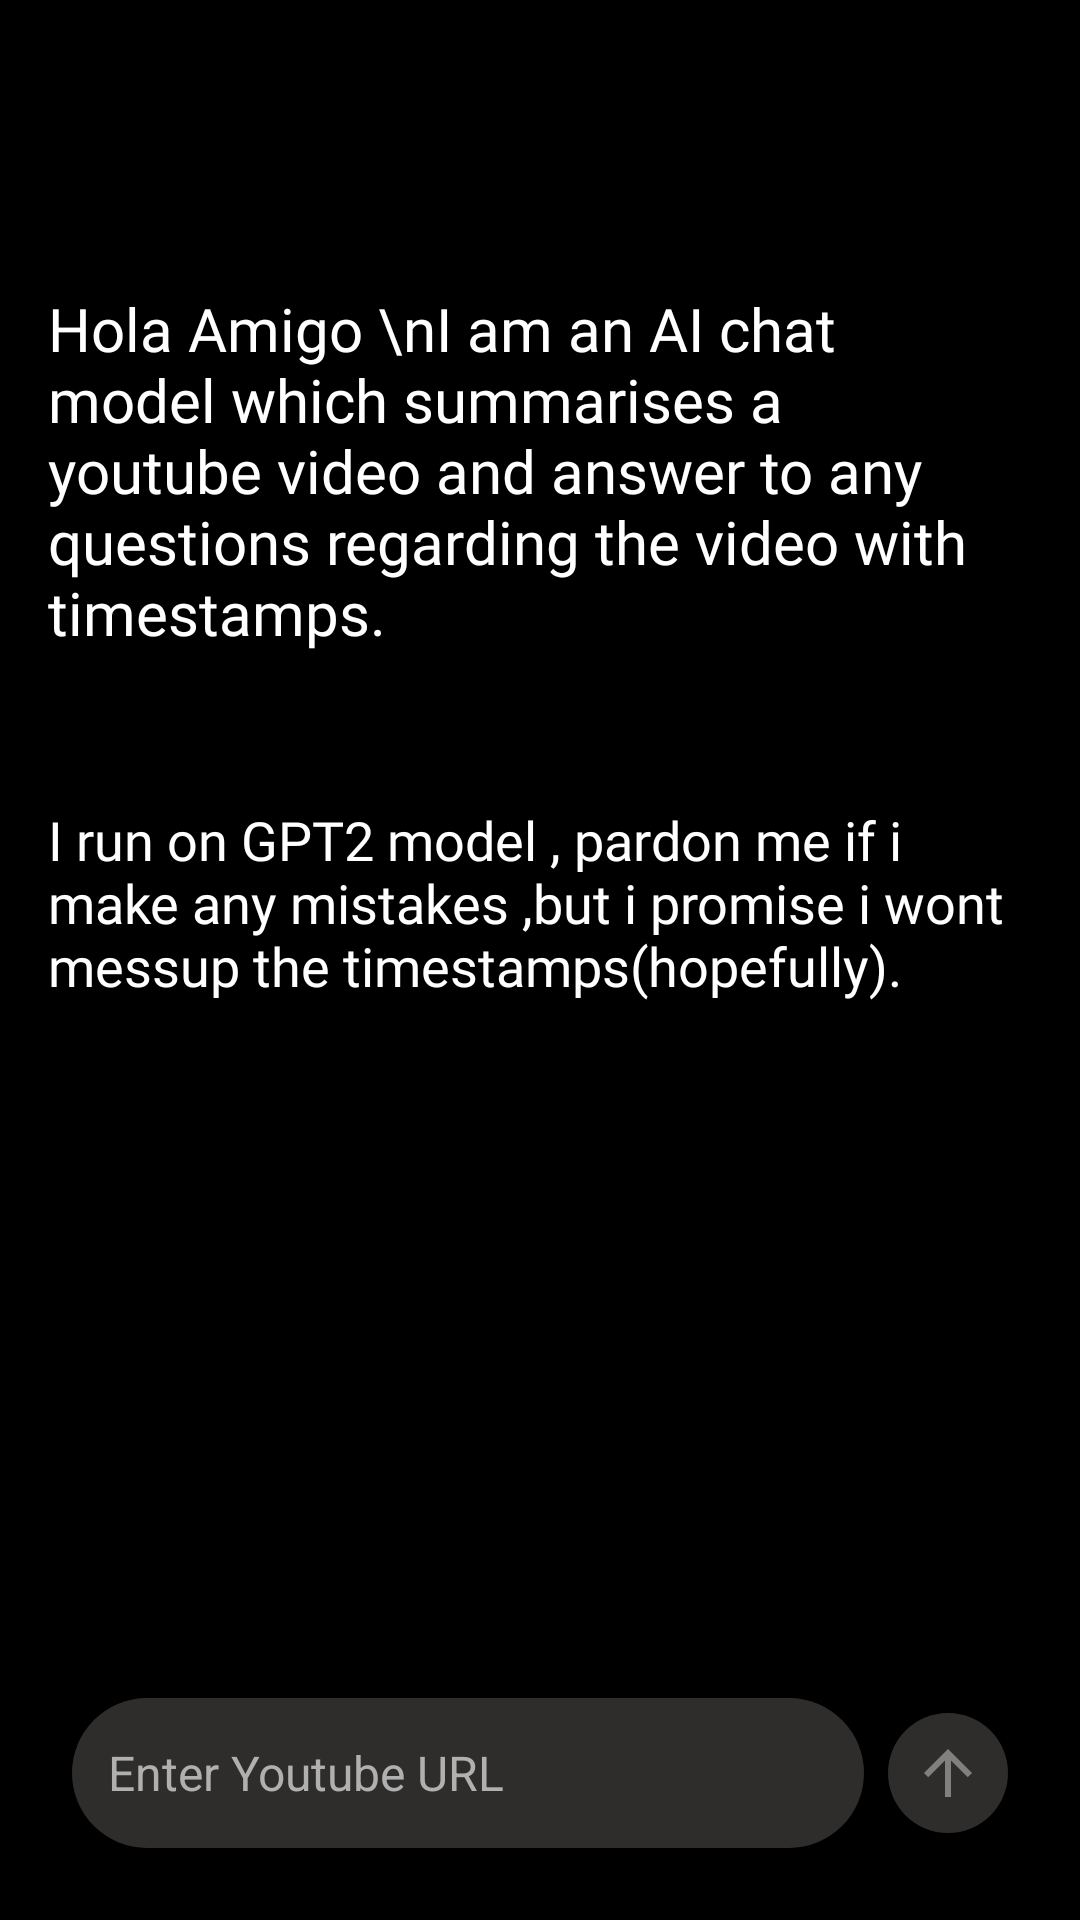

Named icons in this screenshot (1080 x 1920) and their bounding boxes, (x1, y1, x2, y2):
arrow upward: (888, 1713, 1008, 1833)
